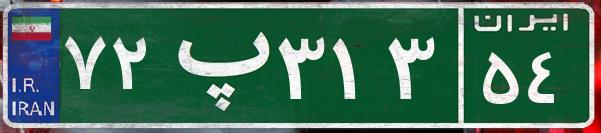1: (330, 28, 385, 110)
2: (110, 28, 158, 105)
3: (385, 28, 445, 110), (273, 28, 330, 110)
4: (525, 38, 570, 115)
5: (475, 38, 525, 113)
7: (57, 26, 110, 107)
پ: (158, 15, 273, 115)
